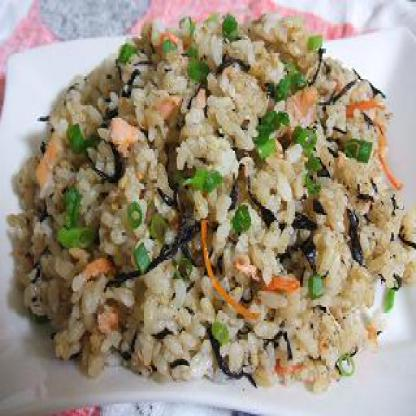fried rice: (42, 21, 394, 385)
